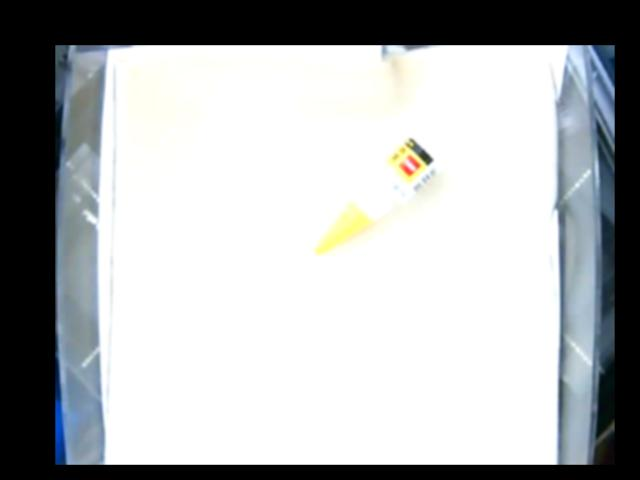Bottle: (315, 136, 442, 258)
